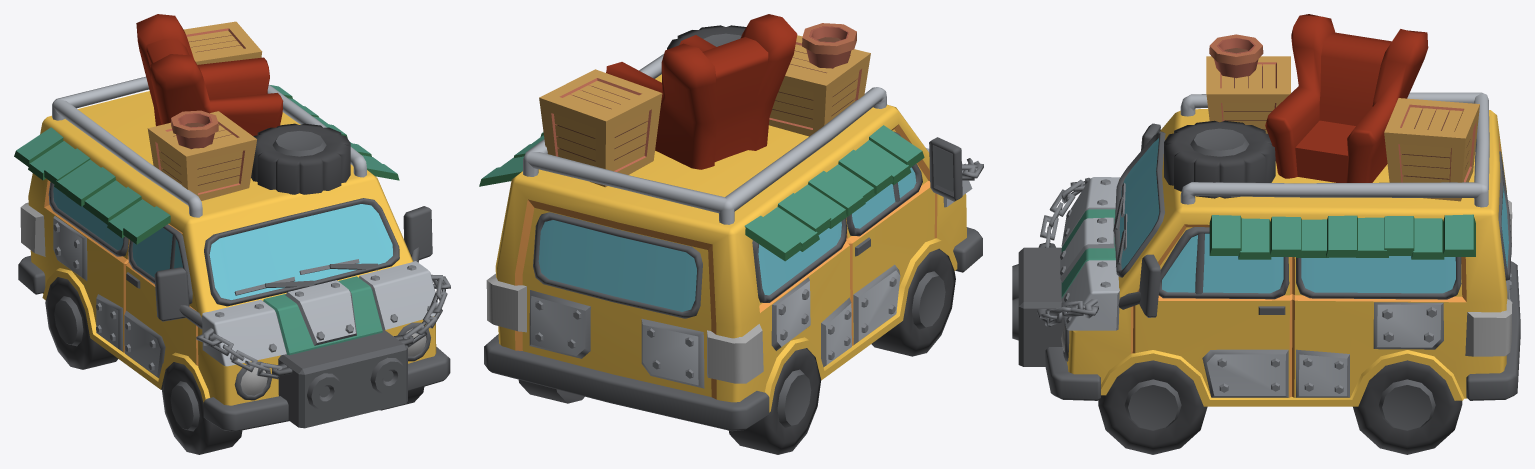
The model's file is BO_VanCar_01_3x2x2.fbx.
3 views of the same model, side by side, from view 1: azimuth 30°, elevation 25°; view 2: azimuth 150°, elevation 25°; view 3: azimuth 270°, elevation 25° (orthographic). The views are drawn at different scales.
Visible parts, largest first — view 1: BO_VanCar_01_3x2x2; view 2: BO_VanCar_01_3x2x2; view 3: BO_VanCar_01_3x2x2.
Boxes of the visible parts, x1,y1,x2,y2 form: BO_VanCar_01_3x2x2: (14, 14, 450, 454); BO_VanCar_01_3x2x2: (479, 14, 983, 454); BO_VanCar_01_3x2x2: (1012, 14, 1520, 454).
Size of the model in its own units: 172 by 195 by 252.
2 materials, 1 textured.
